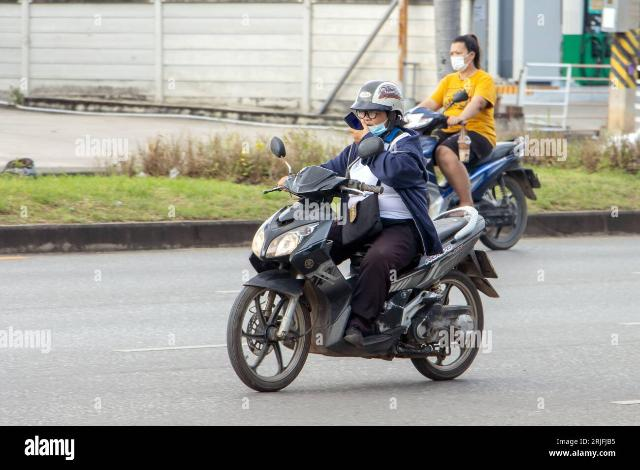helm: (353, 82, 406, 132), (451, 36, 479, 73)
motor: (227, 135, 499, 396), (403, 90, 542, 252)
